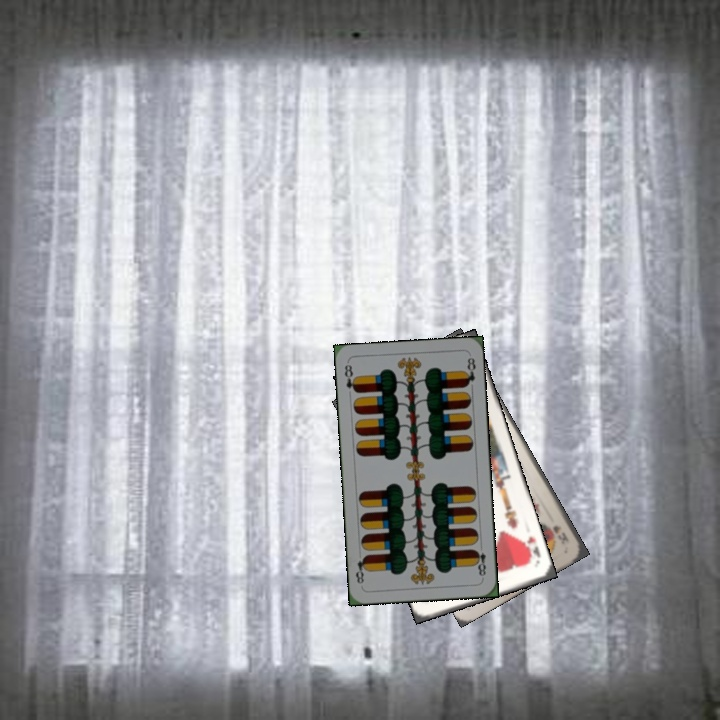E8: (471, 540, 488, 581), (340, 361, 360, 395)
HK: (520, 532, 543, 567)
SK: (549, 521, 571, 545)
